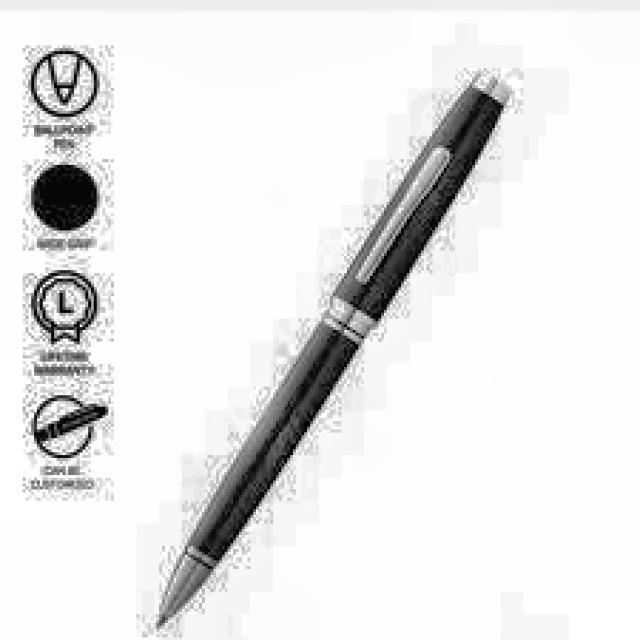Pen: (138, 68, 508, 640)
